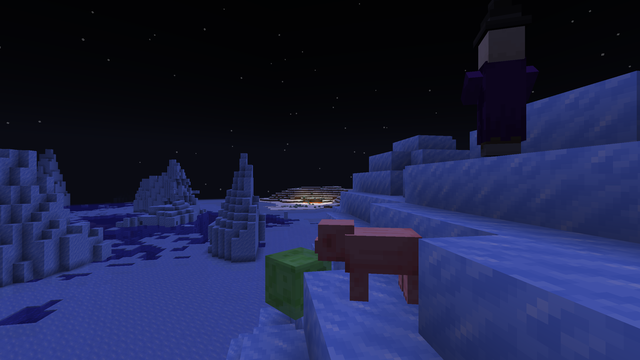cochons: (341, 223, 425, 309)
slimes: (273, 246, 326, 316)
sorcieres: (469, 18, 534, 157)
